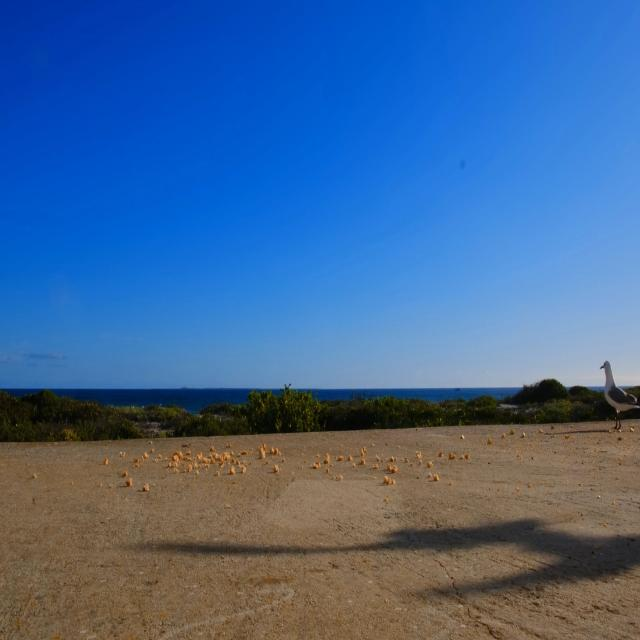bird: (595, 351, 640, 444)
